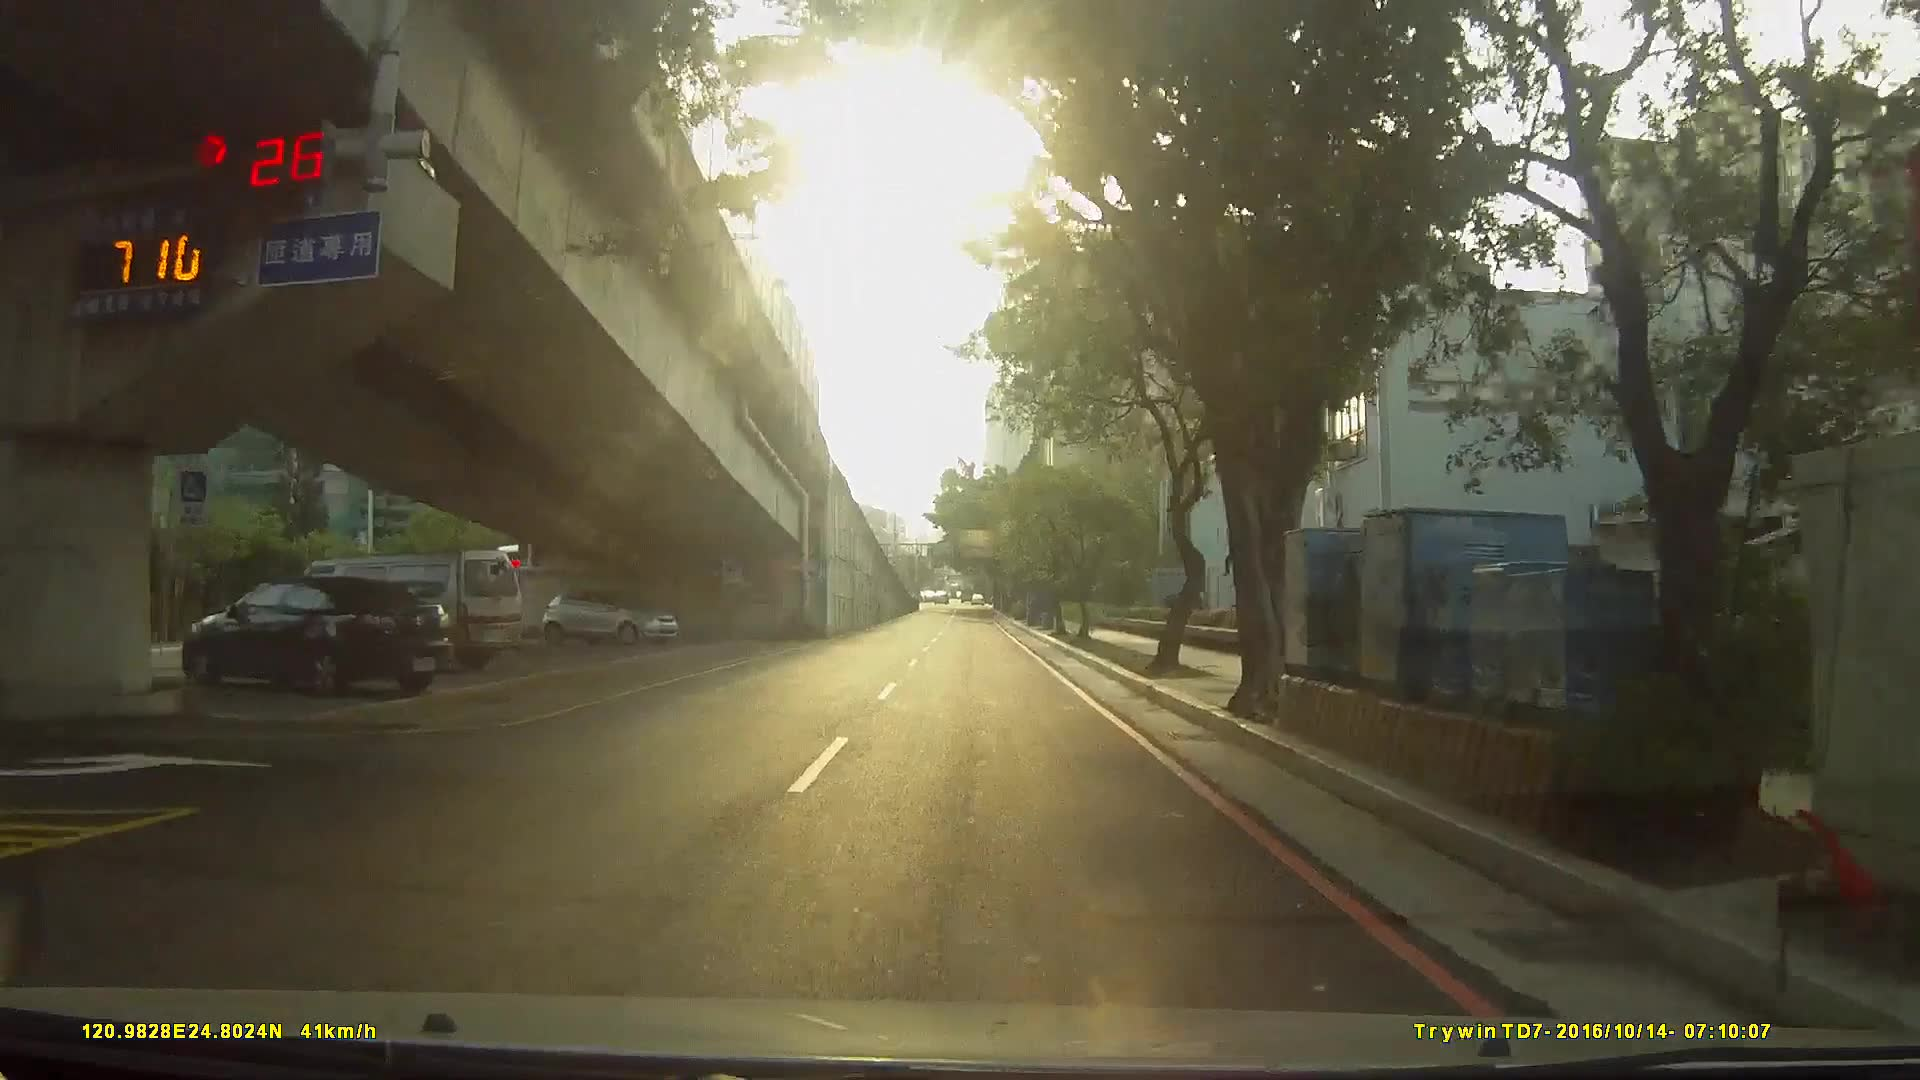vehicle: (164, 576, 462, 709), (264, 551, 530, 691), (534, 588, 675, 651)
